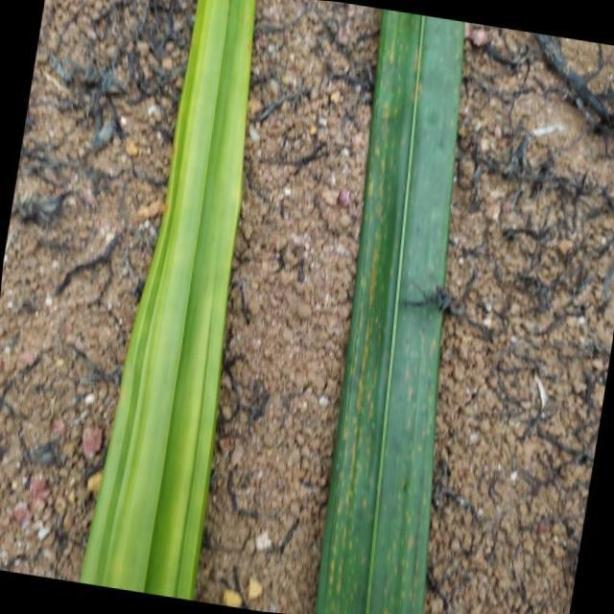nitrogen: (70, 0, 259, 614), (307, 0, 469, 614)
